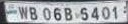character: (17, 5, 28, 20), (90, 5, 99, 20), (101, 5, 110, 20), (42, 7, 51, 20), (63, 7, 72, 20), (80, 7, 89, 20), (29, 6, 37, 20), (53, 7, 61, 21), (111, 5, 118, 19)
